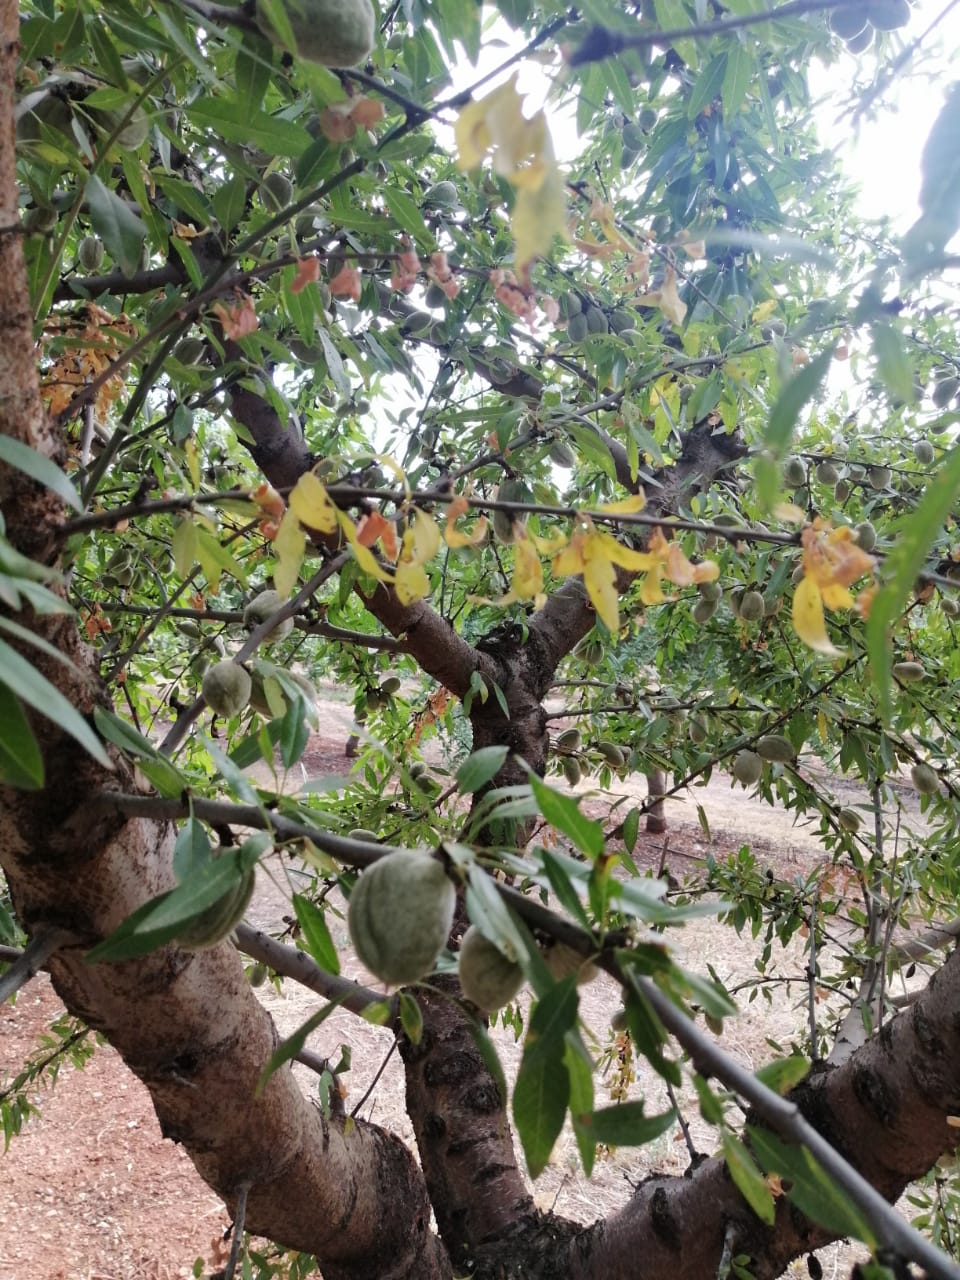chancre fusicocum: (244, 471, 878, 660), (44, 248, 563, 419)
